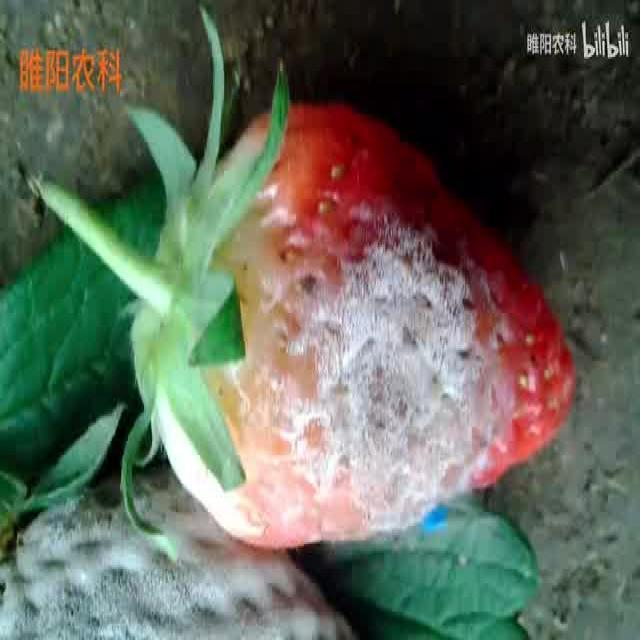Moho gris: (115, 135, 583, 548)
